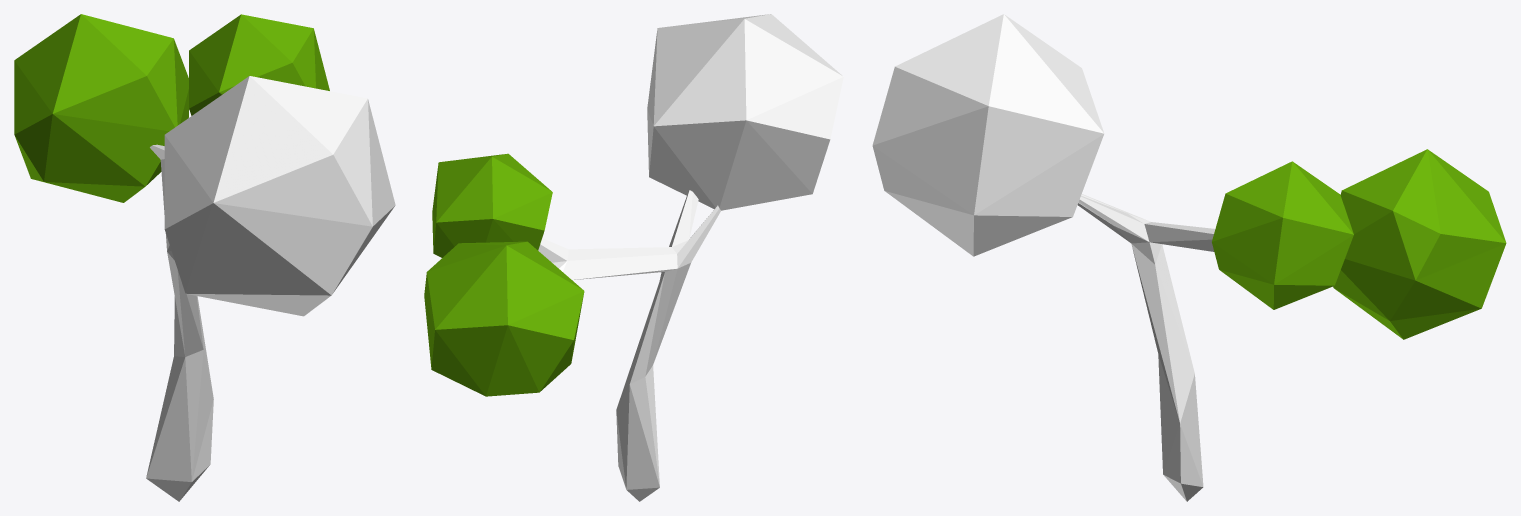
File: tree4.obj
3 renders of one model, left to right at view 1: azimuth 30°, elevation 25°; view 2: azimuth 150°, elevation 25°; view 3: azimuth 270°, elevation 25°, orthographic. The views are drawn at different scales.
Visible parts, largest first — view 1: Cube; view 2: Cube; view 3: Cube.
Boxes of the visible parts, x1,y1,x2,y2 form: Cube: (14,14,395,501); Cube: (424,14,843,501); Cube: (872,14,1506,501).
Size of the model in its own units: 8.27 by 12.55 by 15.16.
1 material, 1 textured.
